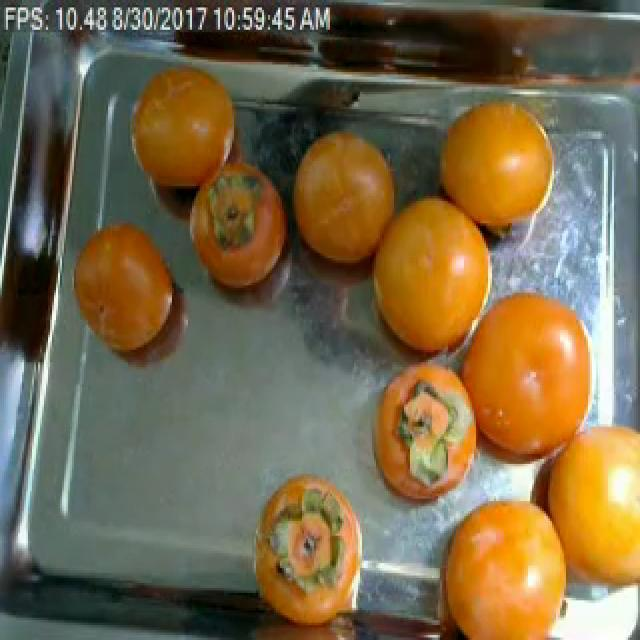Fruit: (350, 173, 498, 390), (448, 273, 606, 476), (60, 203, 210, 387), (420, 476, 588, 640), (418, 82, 570, 258), (170, 146, 306, 320), (352, 352, 488, 524), (278, 114, 410, 288), (118, 45, 246, 211), (244, 461, 364, 608)
